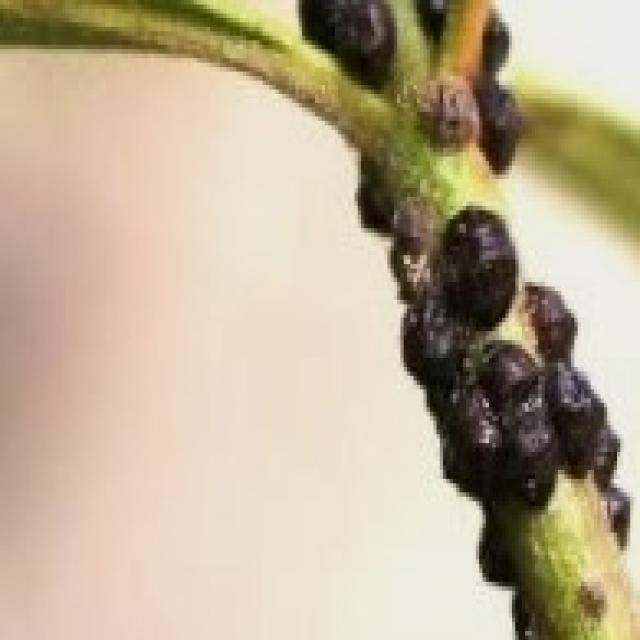Black Scale: (358, 152, 633, 636)
